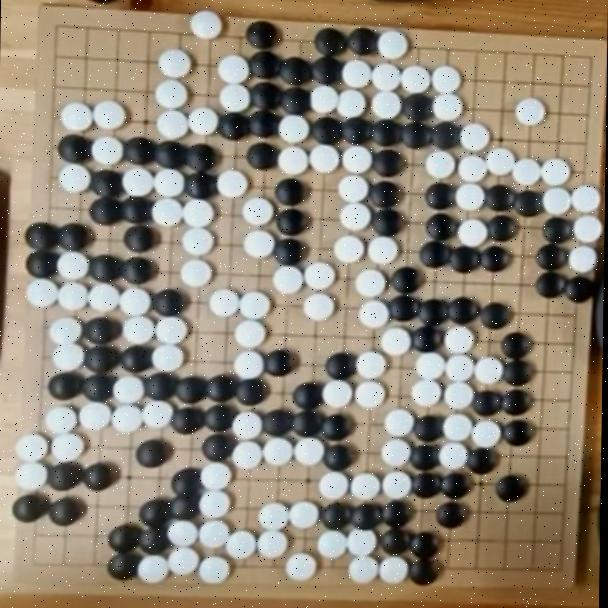corners: (27, 10, 93, 49), (24, 538, 59, 590), (565, 43, 607, 78), (540, 550, 573, 588)
